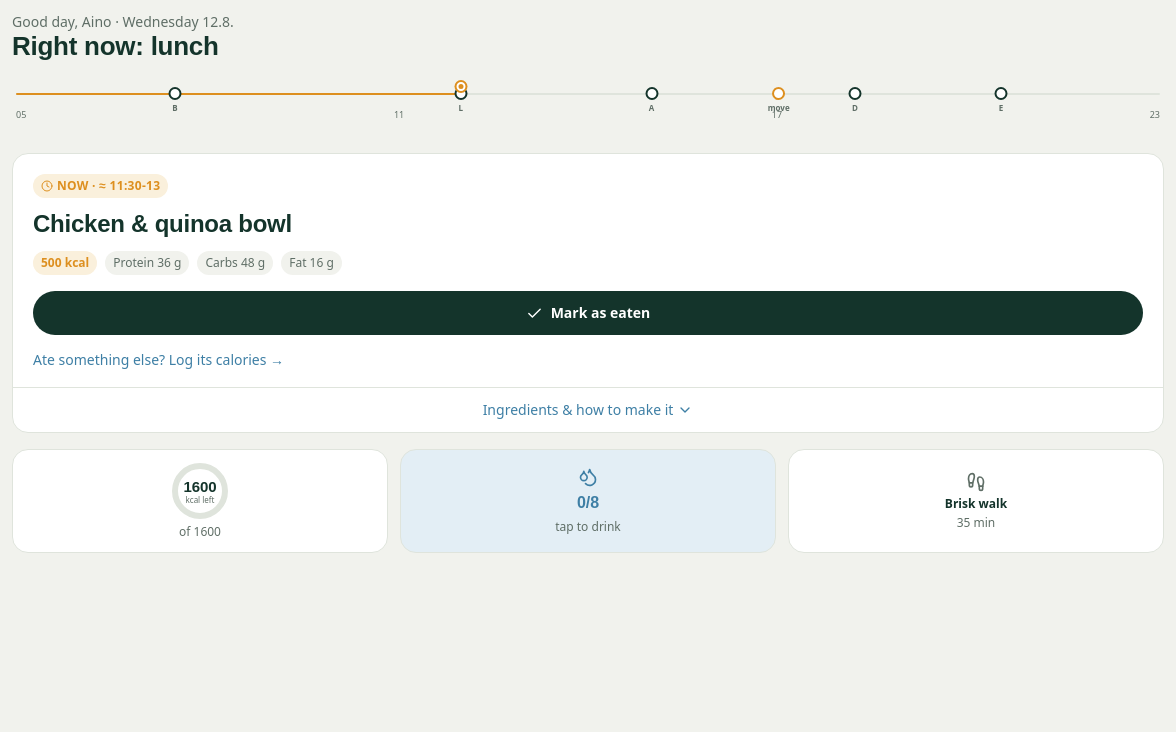
Test case: the tiles › toggles the day’s movement and offsets the calories
Check: the text "1600" is shown, box x1=184 y1=479 x2=216 y2=494
Click the button "Brisk walk 35 min". click: coordinates (976, 501)
box: x1=788 y1=449 x2=1164 y2=553
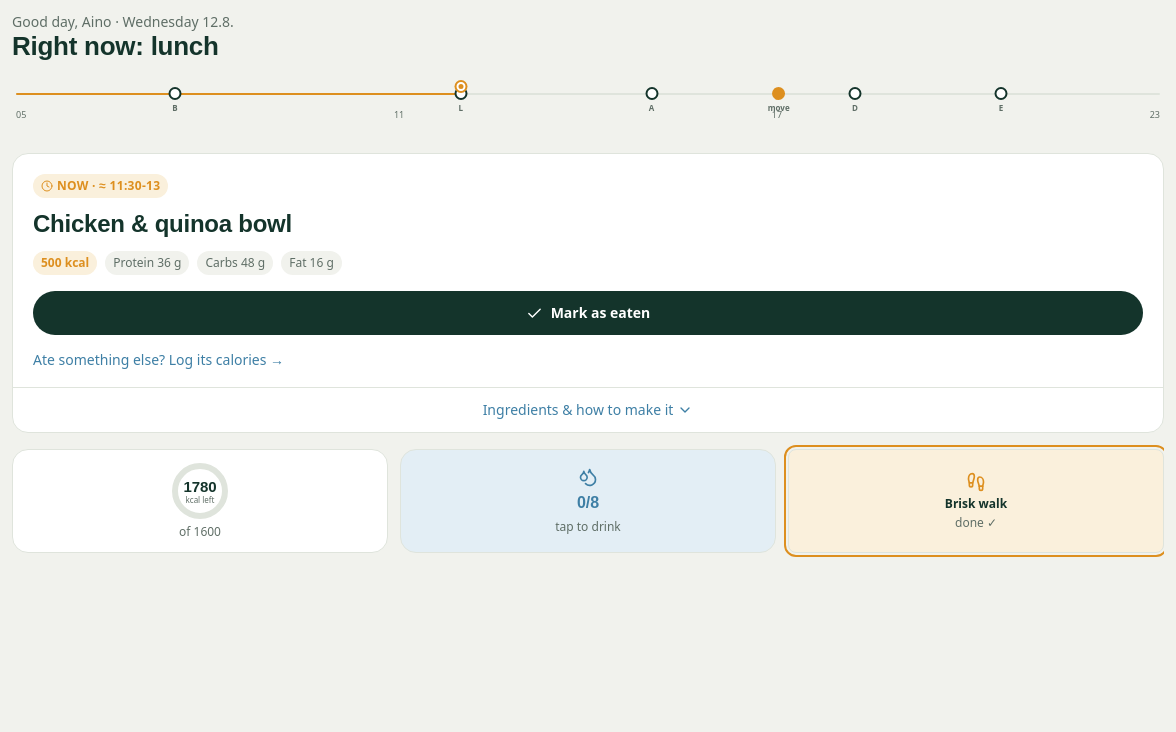
Check: the text "done ✓" is shown, box x1=955 y1=515 x2=997 y2=531
